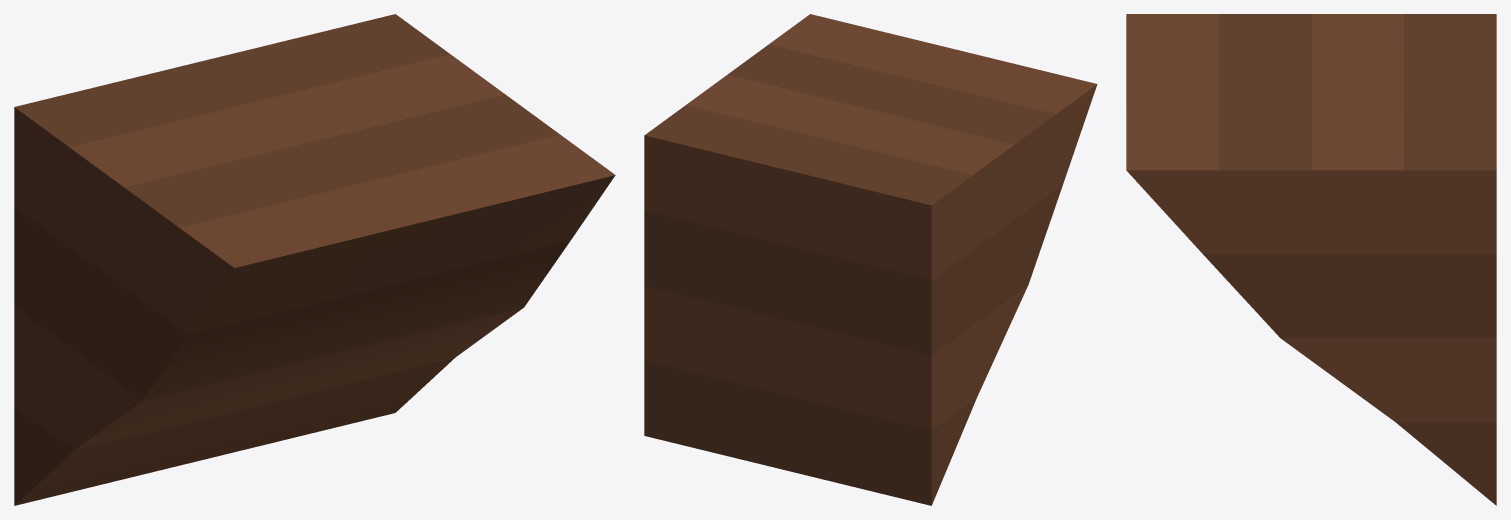
Rendered from Side.fbx.
The picture shows the model from 3 angles, left to right: view 1: azimuth 30°, elevation 25°; view 2: azimuth 150°, elevation 25°; view 3: azimuth 270°, elevation 25°; orthographic projection. The views are drawn at different scales.
Visible parts, largest first — view 1: pCube1; view 2: pCube1; view 3: pCube1.
Boxes of the visible parts, x1=… form: pCube1: x1=14, y1=14, x2=615, y2=505; pCube1: x1=644, y1=14, x2=1097, y2=505; pCube1: x1=1126, y1=14, x2=1496, y2=505.
Bounding box in the file's own units: 1 × 1 × 1.
